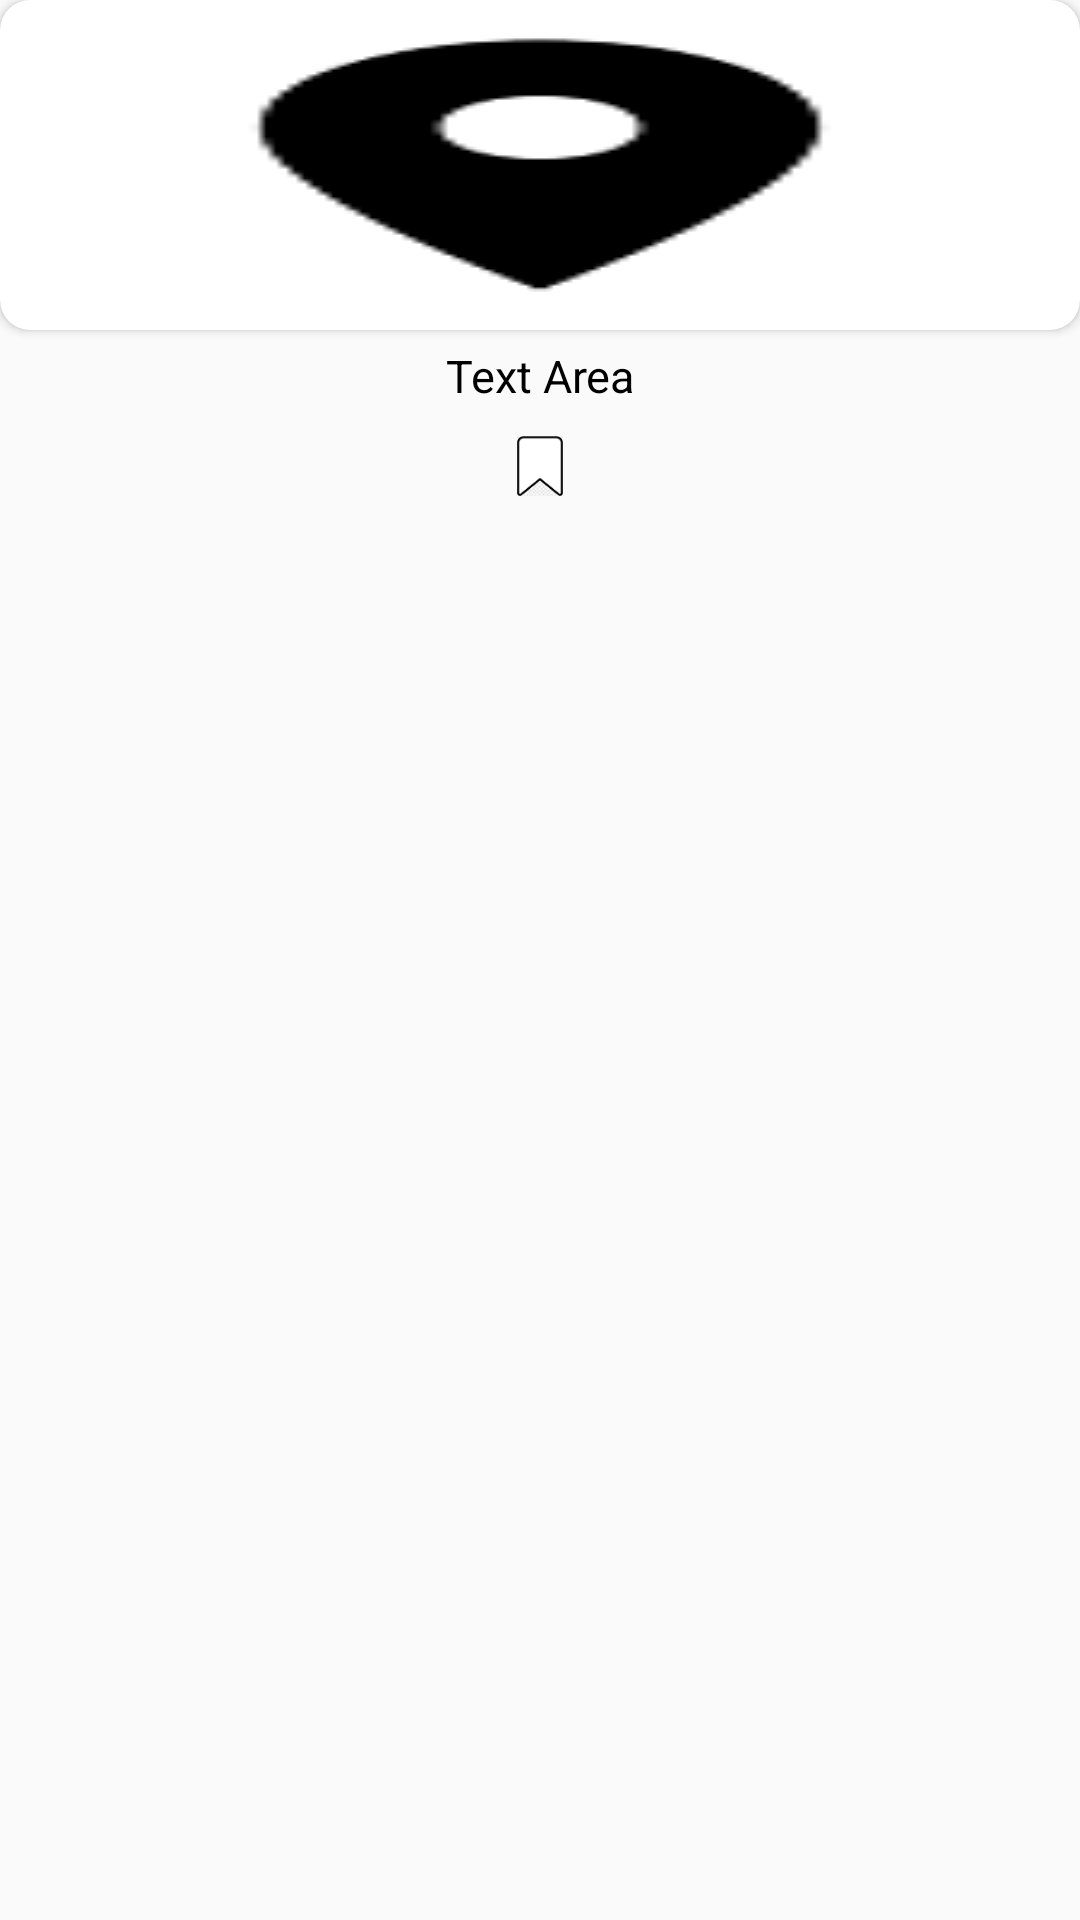

Screen size 1080x1920. Icon name, then its box in pixels as (x1, y1, x2, y2):
bookmark: (517, 436, 563, 496)
